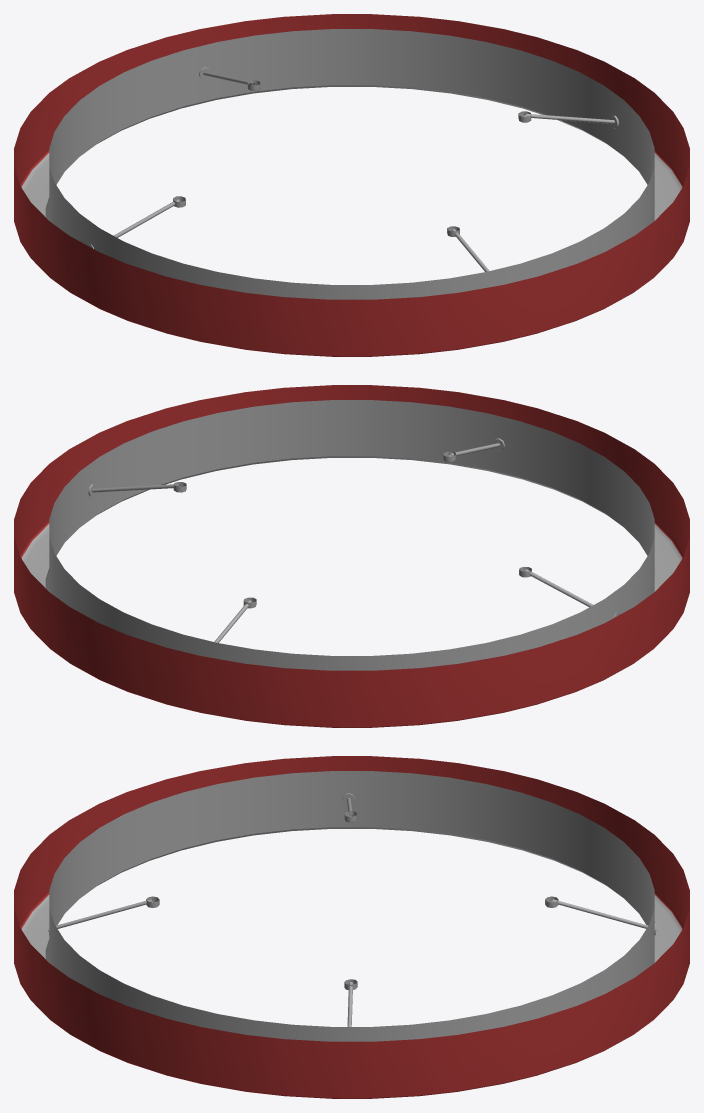
Rendered from ecran_rond_SM.fbx.
3 renders of one model, top to bottom at view 1: azimuth 30°, elevation 25°; view 2: azimuth 150°, elevation 25°; view 3: azimuth 270°, elevation 25°, orthographic.
Parts seen in each view (by area): view 1: ecran_rondSM; view 2: ecran_rondSM; view 3: ecran_rondSM.
Boxes of the visible parts, x1,y1,x2,y2 form: ecran_rondSM: [14, 14, 689, 356]; ecran_rondSM: [14, 385, 689, 727]; ecran_rondSM: [14, 756, 689, 1098].
Bounding box in the file's own units: 889 × 88.27 × 889.
